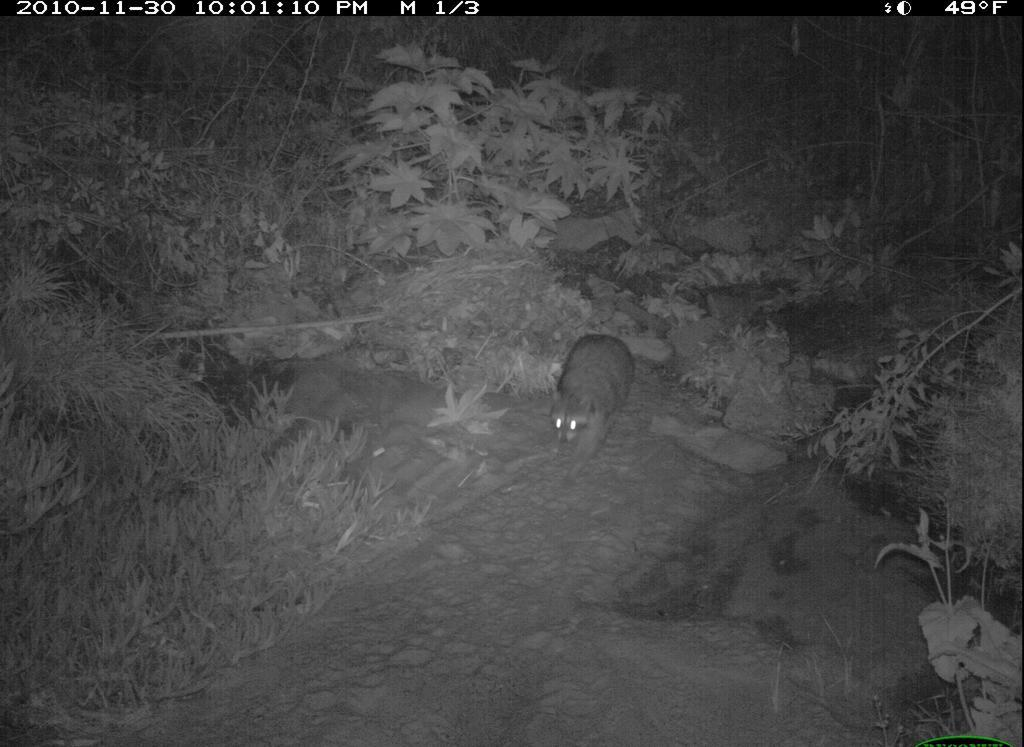raccoon: (547, 329, 639, 465)
